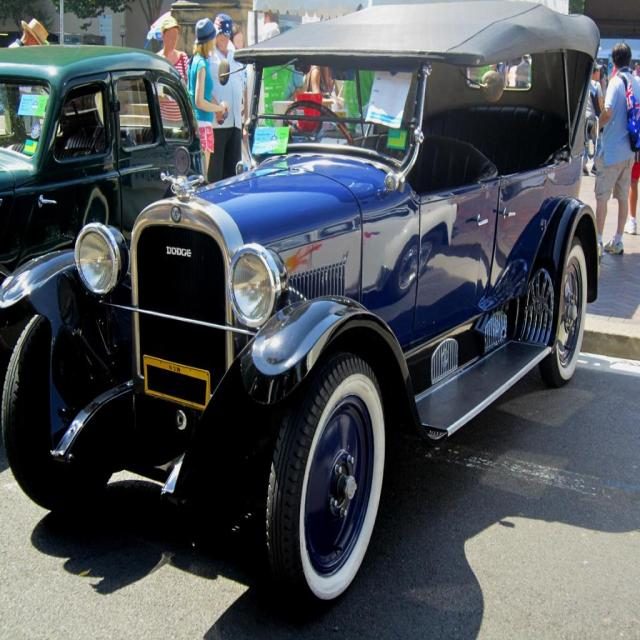car: (0, 0, 592, 621)
